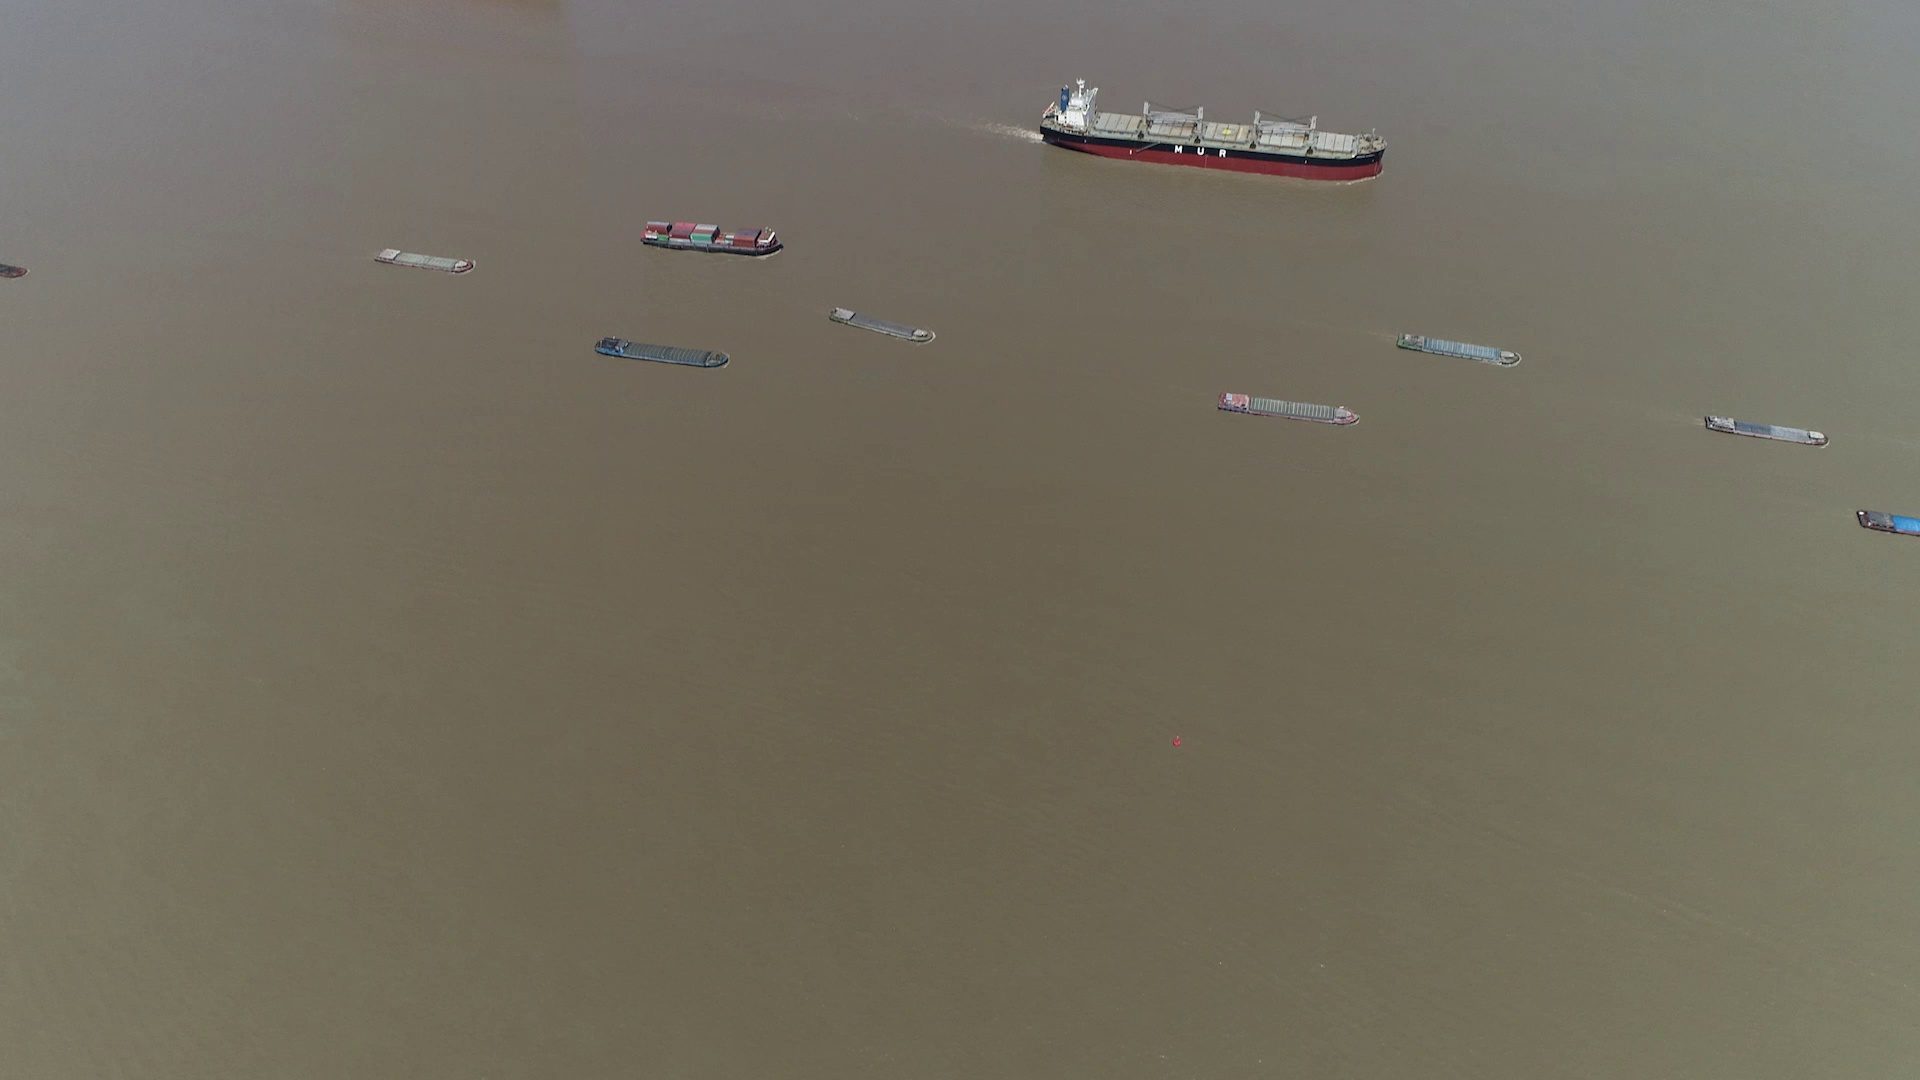ship: (1039, 84, 1385, 181), (641, 218, 783, 255), (593, 336, 731, 371), (1218, 392, 1358, 425), (1395, 331, 1520, 365), (829, 307, 938, 345), (1702, 413, 1826, 444), (375, 248, 476, 273), (1855, 506, 1920, 538), (0, 257, 29, 280)
